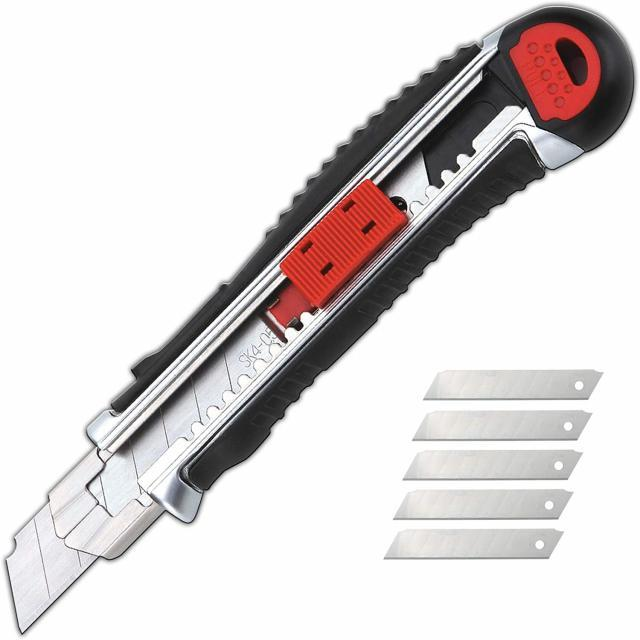estilete: (6, 5, 634, 631), (413, 410, 590, 441), (425, 369, 601, 400), (395, 489, 570, 519), (386, 529, 561, 559), (405, 450, 579, 480)
